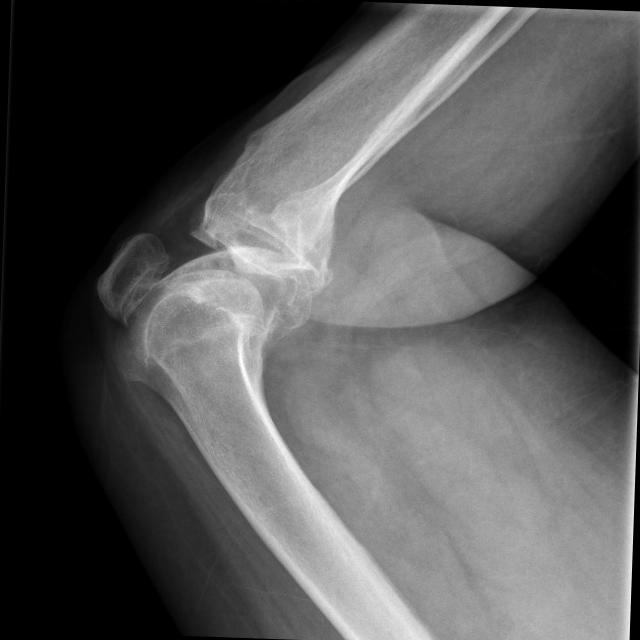Knee: (88, 163, 345, 389)
